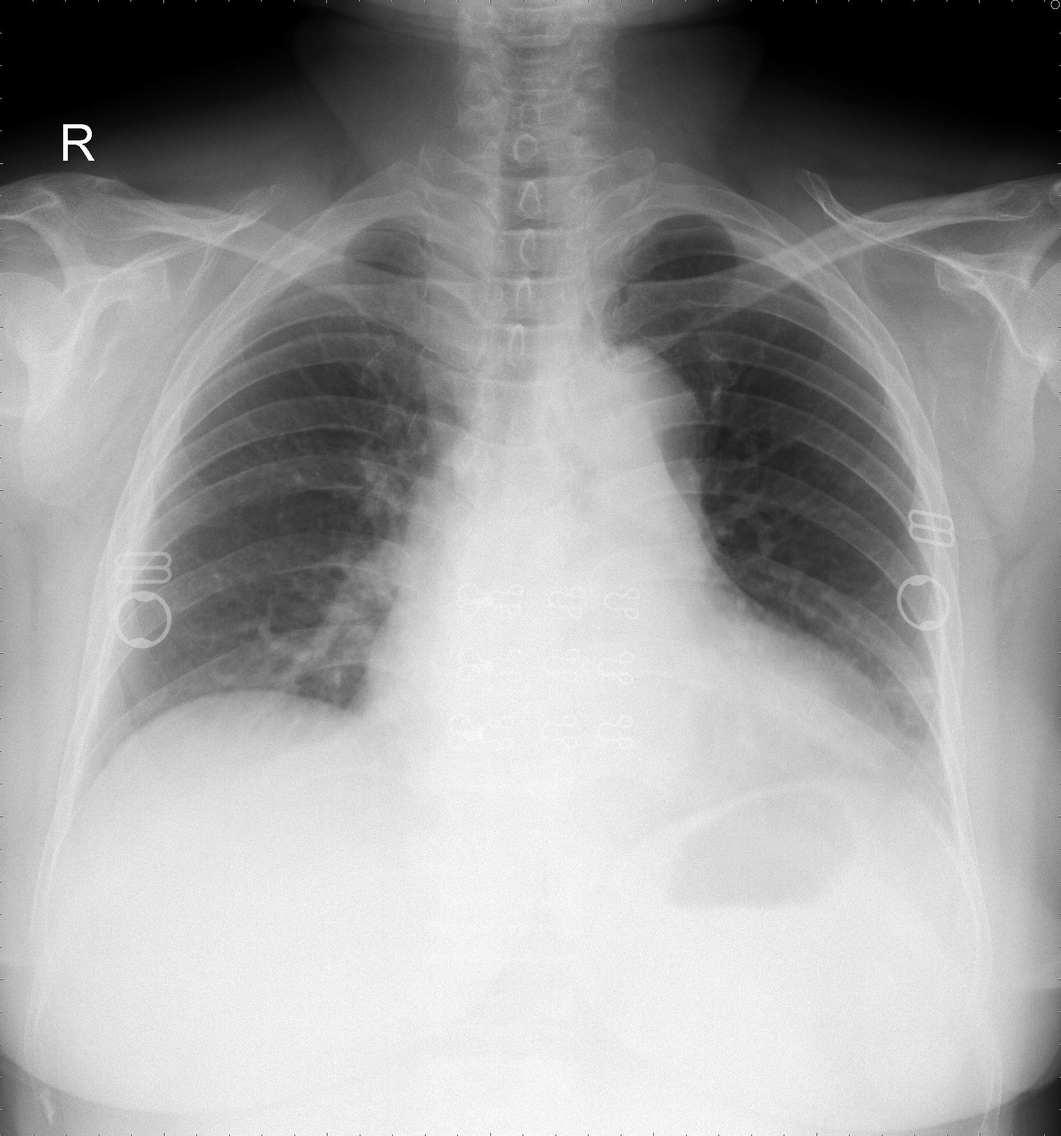Aortic enlargement: (535, 342, 697, 470)
Cardiomegaly: (347, 646, 898, 749)
